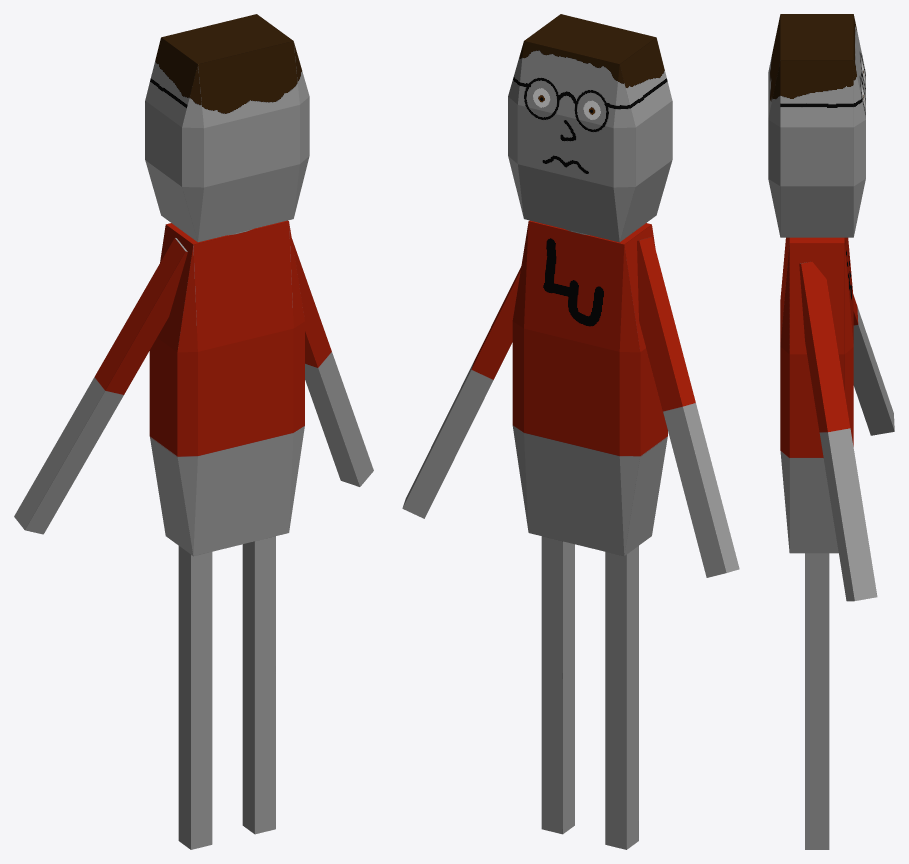
The model's file is crying monster.fbx.
3 renders of one model, left to right at view 1: azimuth 30°, elevation 25°; view 2: azimuth 150°, elevation 25°; view 3: azimuth 270°, elevation 25°, orthographic.
Parts seen in each view (by area): view 1: beveled_cuboid, beveled_cuboid_1, mesh_2, mesh, mesh_1, mesh_3; view 2: beveled_cuboid, beveled_cuboid_1, mesh_2, mesh, mesh_1, mesh_3; view 3: beveled_cuboid_1, beveled_cuboid, mesh_3, mesh_1, mesh_2.
Part boxes in pixels (bbox=[...]): beveled_cuboid: bbox=[149, 220, 304, 556]; beveled_cuboid_1: bbox=[145, 14, 309, 242]; mesh_2: bbox=[14, 238, 187, 534]; mesh: bbox=[178, 546, 212, 849]; mesh_1: bbox=[242, 536, 275, 834]; mesh_3: bbox=[292, 239, 373, 486]; beveled_cuboid: bbox=[512, 220, 667, 556]; beveled_cuboid_1: bbox=[508, 14, 672, 242]; mesh_2: bbox=[637, 237, 739, 577]; mesh: bbox=[605, 546, 638, 849]; mesh_1: bbox=[541, 536, 574, 834]; mesh_3: bbox=[402, 266, 521, 518]; beveled_cuboid_1: bbox=[768, 14, 865, 237]; beveled_cuboid: bbox=[780, 237, 853, 553]; mesh_3: bbox=[799, 261, 877, 601]; mesh_1: bbox=[805, 553, 829, 849]; mesh_2: bbox=[853, 295, 894, 435].
Bounding box in the file's own units: 201 × 447 × 64.74.
7 materials, 7 textured.
